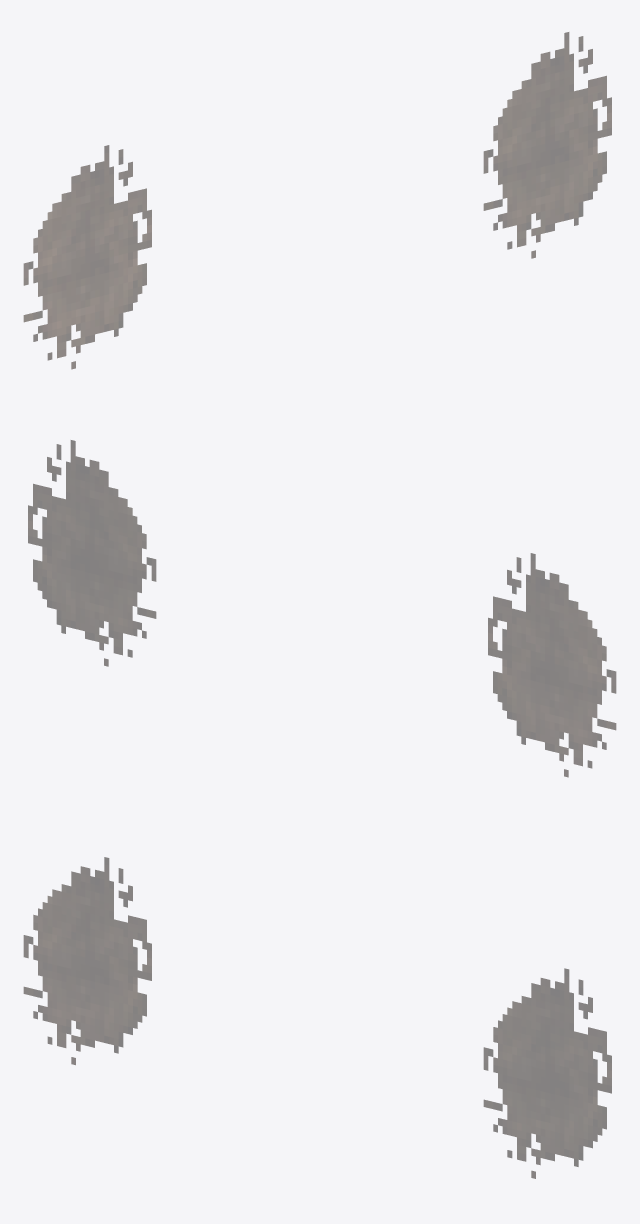
The model's file is Archives_Alpha_57.glb.
3 views of the same model, one above another, from view 1: azimuth 30°, elevation 25°; view 2: azimuth 150°, elevation 25°; view 3: azimuth 330°, elevation 25° (orthographic).
Parts seen in each view (by area): view 1: Archives_Alpha_57; view 2: Archives_Alpha_57; view 3: Archives_Alpha_57.
Boxes of the visible parts, left/top/right/bottom form: Archives_Alpha_57: left=23, top=32, right=611, bottom=369; Archives_Alpha_57: left=28, top=440, right=616, bottom=777; Archives_Alpha_57: left=23, top=857, right=611, bottom=1178.
Size of the model in its own units: 31.62 by 11.37 by 0.
Materials: 1 (1 with a texture image).
